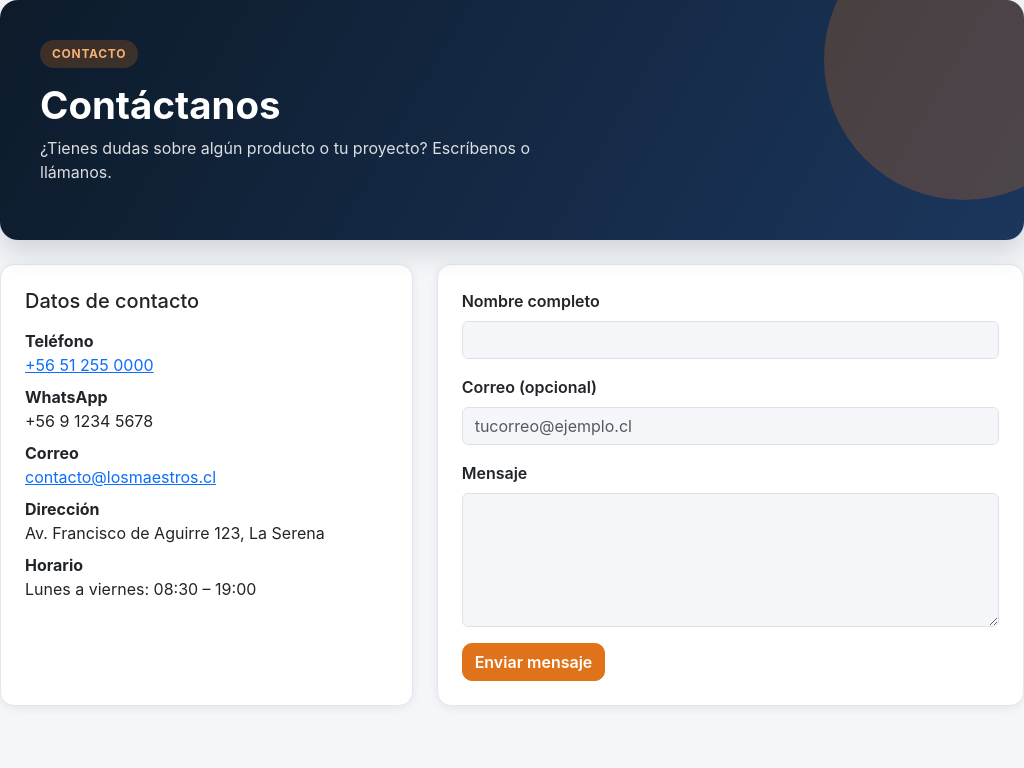
Test case: Contacto (formulario controlado + validación) › CONDICIONAL: al cargar no hay errores; al enviar vacío aparecen los obligatorios
Expected: the text "El nombre es obligatorio." is not shown
Click the button "Enviar mensaje" at (534, 662), box [462, 644, 605, 682]
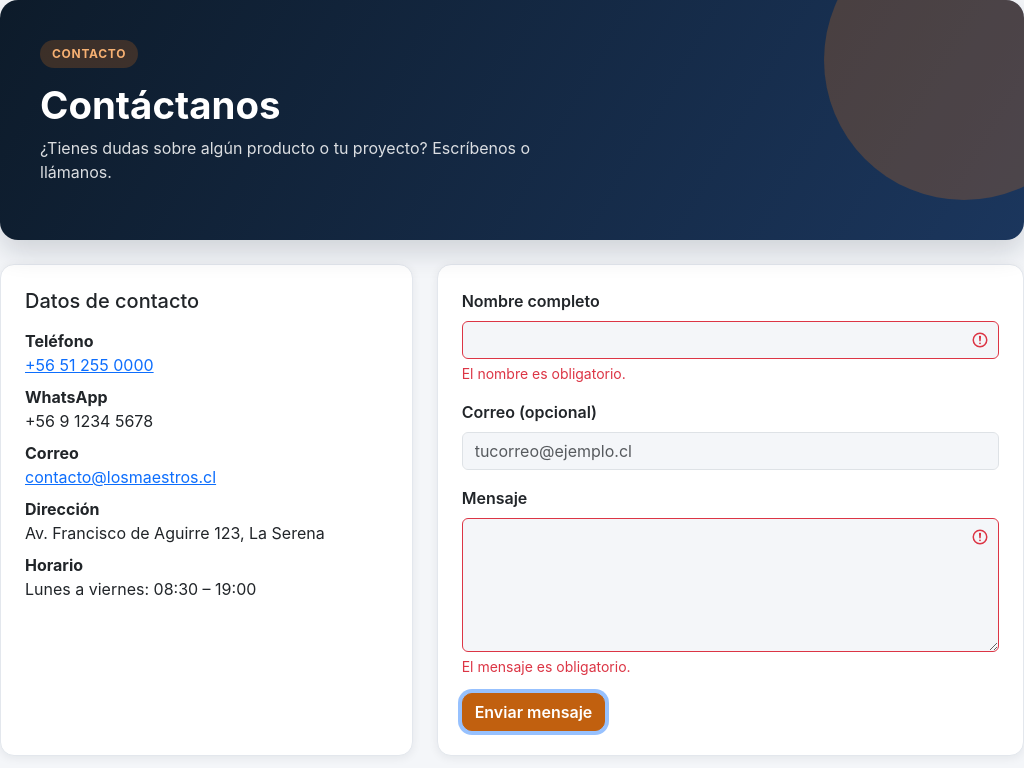
Expected: the text "El nombre es obligatorio." is shown, [462, 366, 626, 382]
Expected: the text "El mensaje es obligatorio." is shown, [462, 658, 631, 676]
